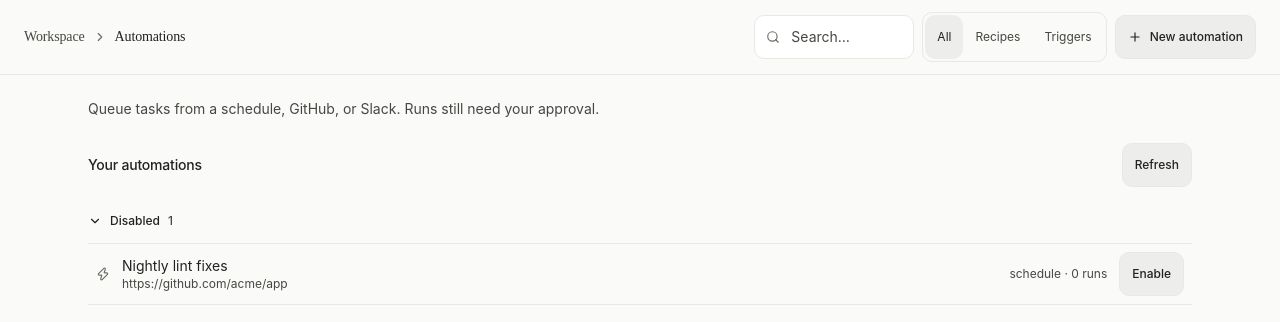
Test: AutomationsView › updates enabled=false through the existing PATCH contract
Click the button "Enable" at (1152, 274), box [1119,252,1184,296]
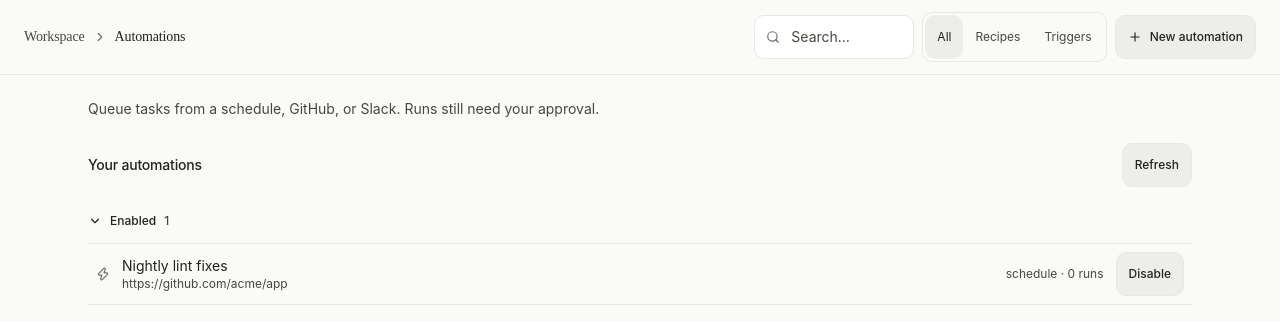
Now the button with aria-label "Disable nightly-lint" is shown, box [1116,252,1184,296]
